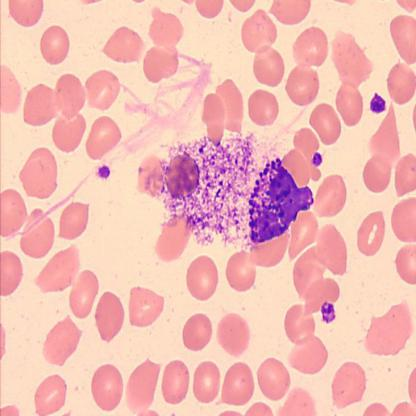Basophil: (245, 153, 317, 249)
